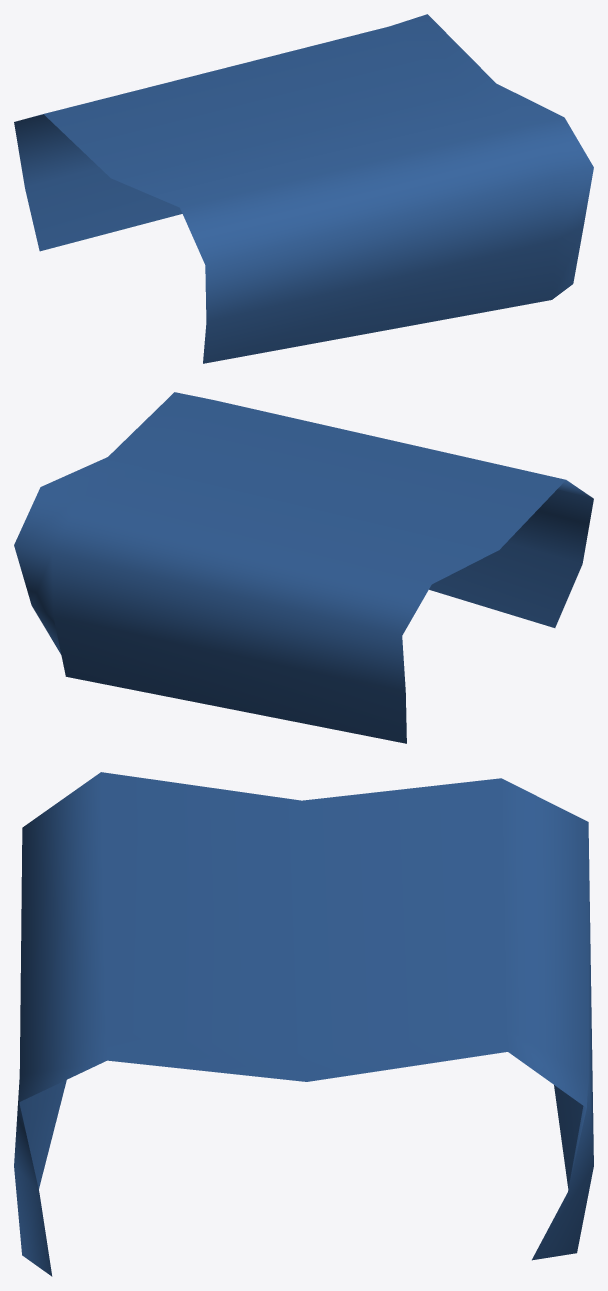
File: Sheet.fbx
3 views of the same model, one above another, from view 1: azimuth 30°, elevation 25°; view 2: azimuth 150°, elevation 25°; view 3: azimuth 270°, elevation 25° (orthographic). The views are drawn at different scales.
Parts seen in each view (by area): view 1: pPlane1; view 2: pPlane1; view 3: pPlane1.
Part boxes in pixels (left/top/right/bottom): pPlane1: left=14, top=14, right=593, bottom=363; pPlane1: left=14, top=392, right=593, bottom=743; pPlane1: left=14, top=772, right=593, bottom=1276.
Bounding box in the file's own units: 2.78 × 1.09 × 2.42.
